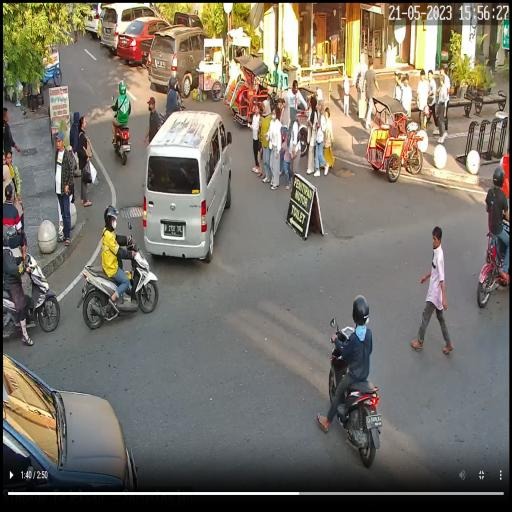mobil: (144, 112, 237, 266), (151, 25, 213, 100), (101, 0, 159, 56), (120, 16, 168, 66)
motor: (321, 319, 385, 479), (78, 230, 158, 328), (0, 252, 59, 353)
